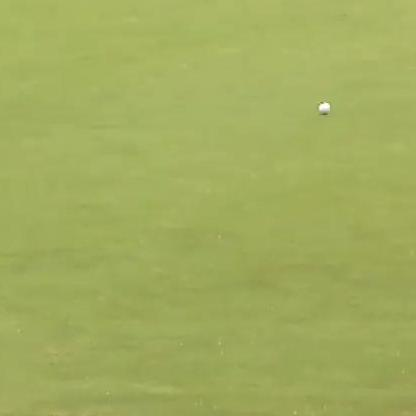golfball: (316, 101, 330, 113)
